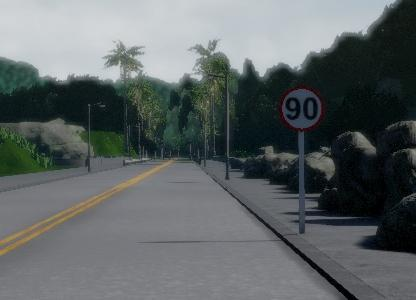Speed_90: (278, 85, 324, 132)
